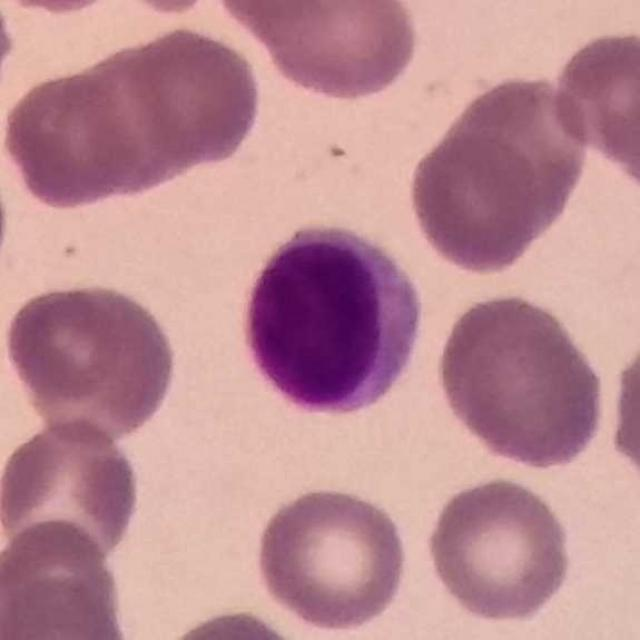Lymphocyte: (232, 217, 430, 422)
RBC: (431, 287, 611, 473), (428, 69, 594, 255), (1, 277, 183, 444), (250, 482, 412, 634), (422, 473, 576, 626), (403, 122, 554, 278), (0, 61, 145, 214), (0, 414, 144, 568), (119, 22, 265, 173), (243, 0, 422, 105), (547, 24, 640, 186), (0, 574, 134, 640), (604, 322, 640, 499), (152, 605, 314, 640), (208, 0, 353, 38), (95, 0, 236, 18), (0, 0, 134, 18)
